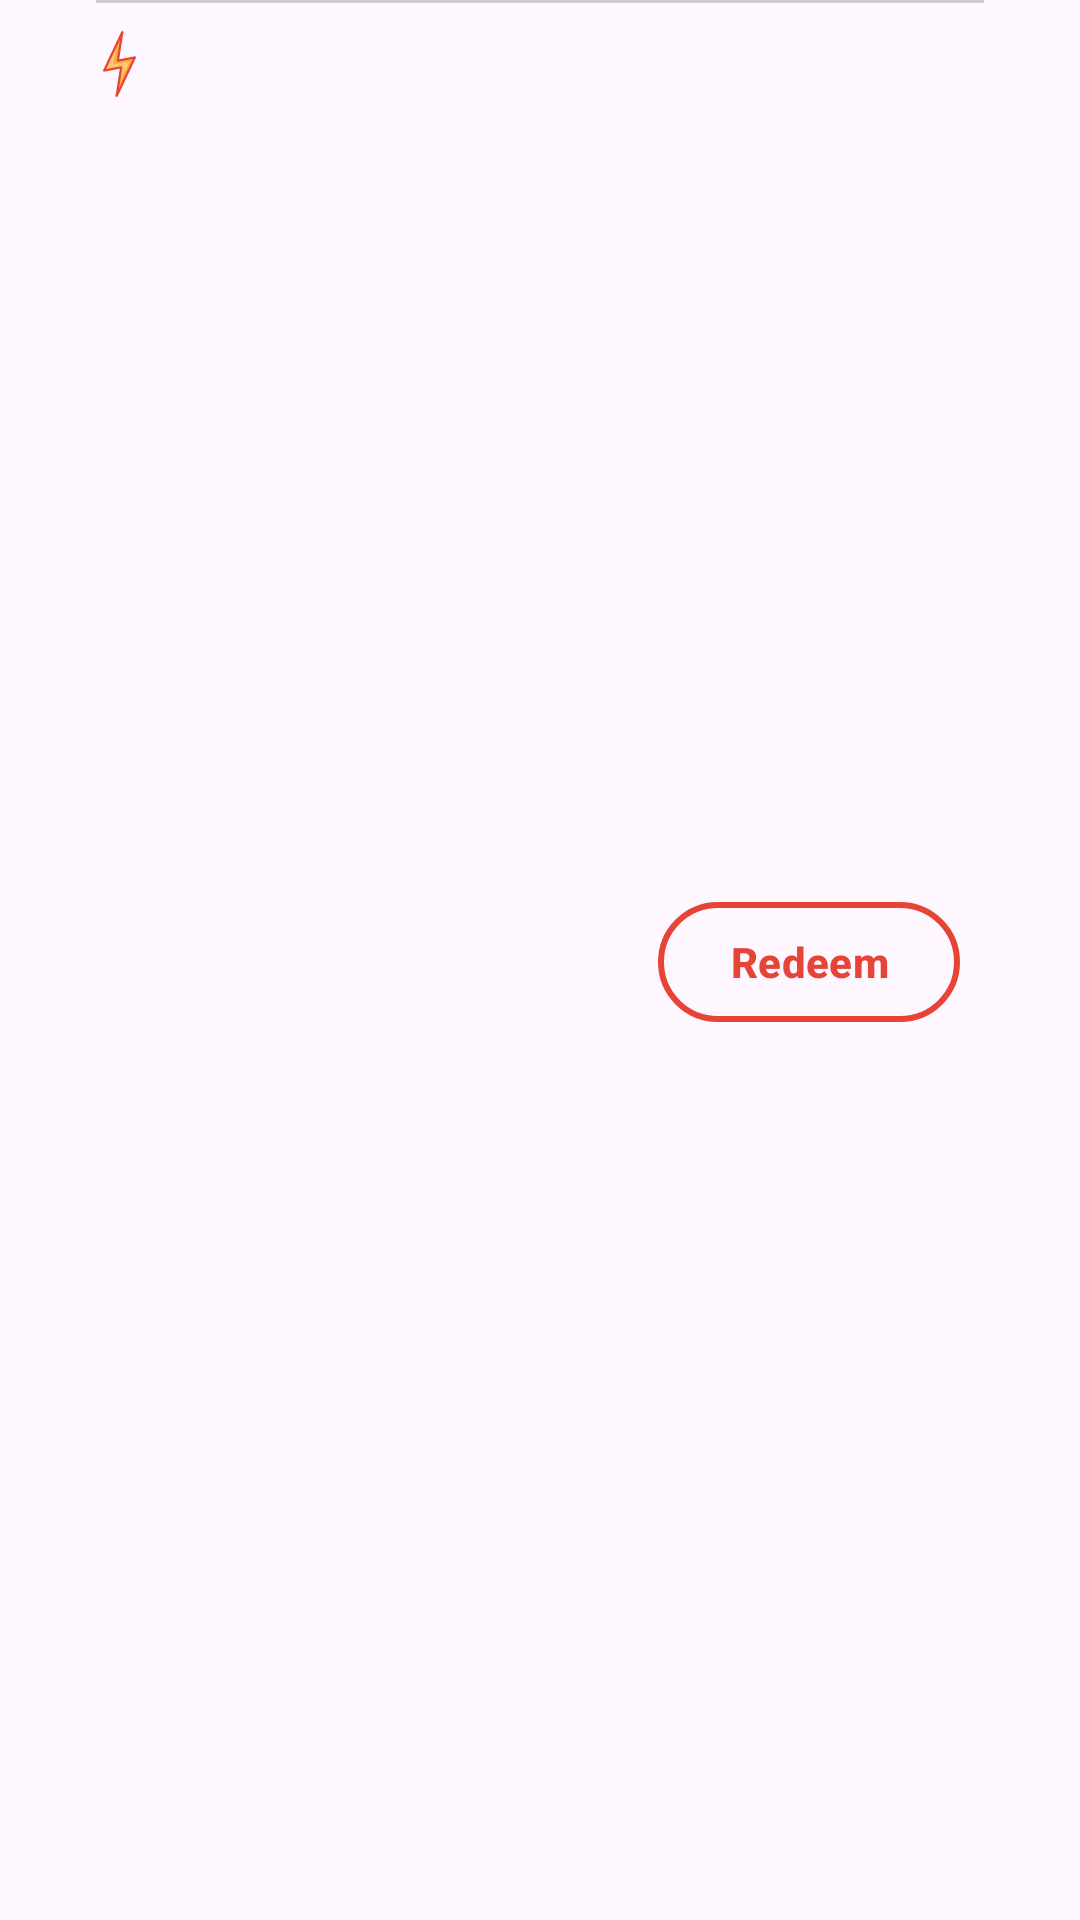

Named icons in this screenshot (1080 x 1920) and their centers, (x,y):
image lightning: (119,64)
